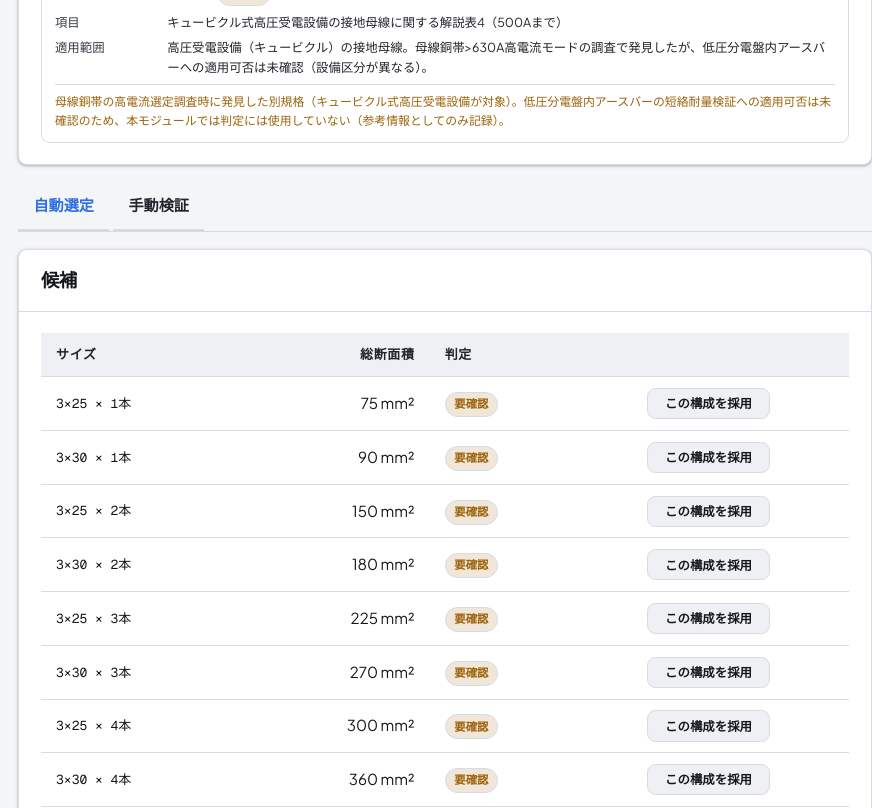
it: EarthBarCalculationView — never a fabricated OK/NG (spec #19, #26-28, #37) › shows real geometry candidates all marked 要確認, never ok/caution/ng, and lets the user adopt one
(page scrolled)
Expected: the text "要確認" in the row of "75" is shown, [454, 396, 488, 411]
Expected: the text "75 mm²" is shown, [259, 377, 430, 431]
Click the button "この構成を採用" in the row of "75" at (708, 404), box [647, 388, 770, 419]
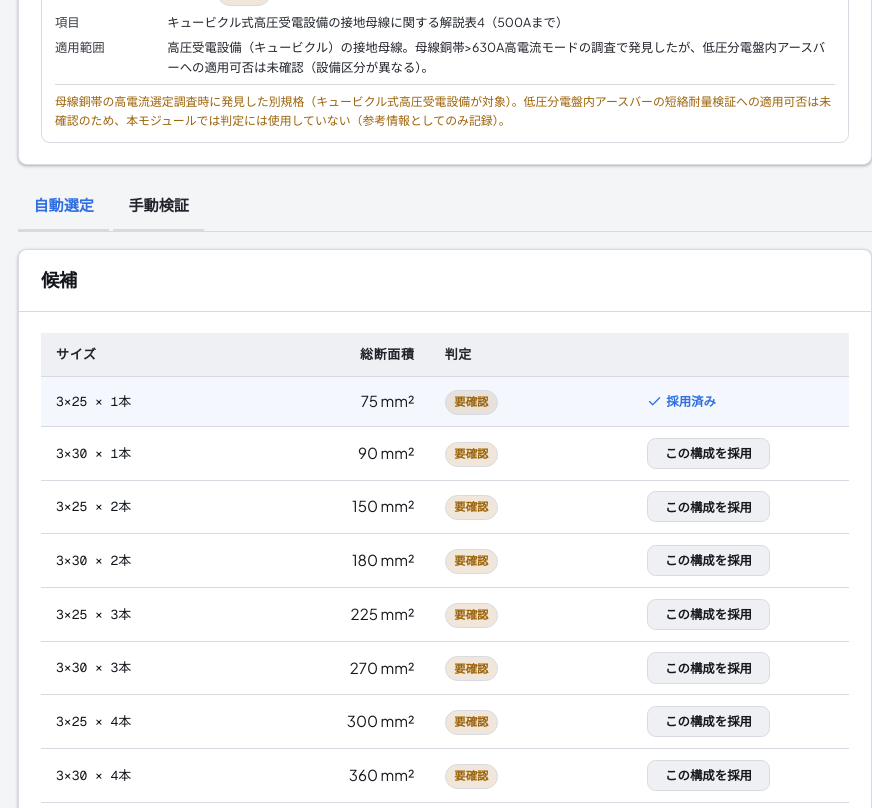
Result: the text "採用済み" is shown at [647, 393, 716, 409]
